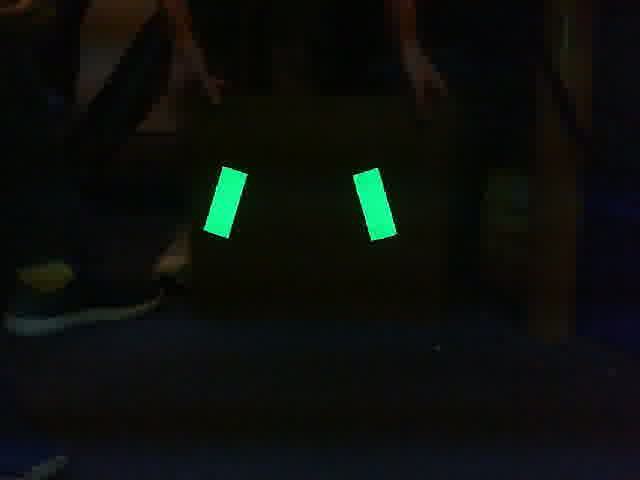target: (202, 168, 399, 243)
